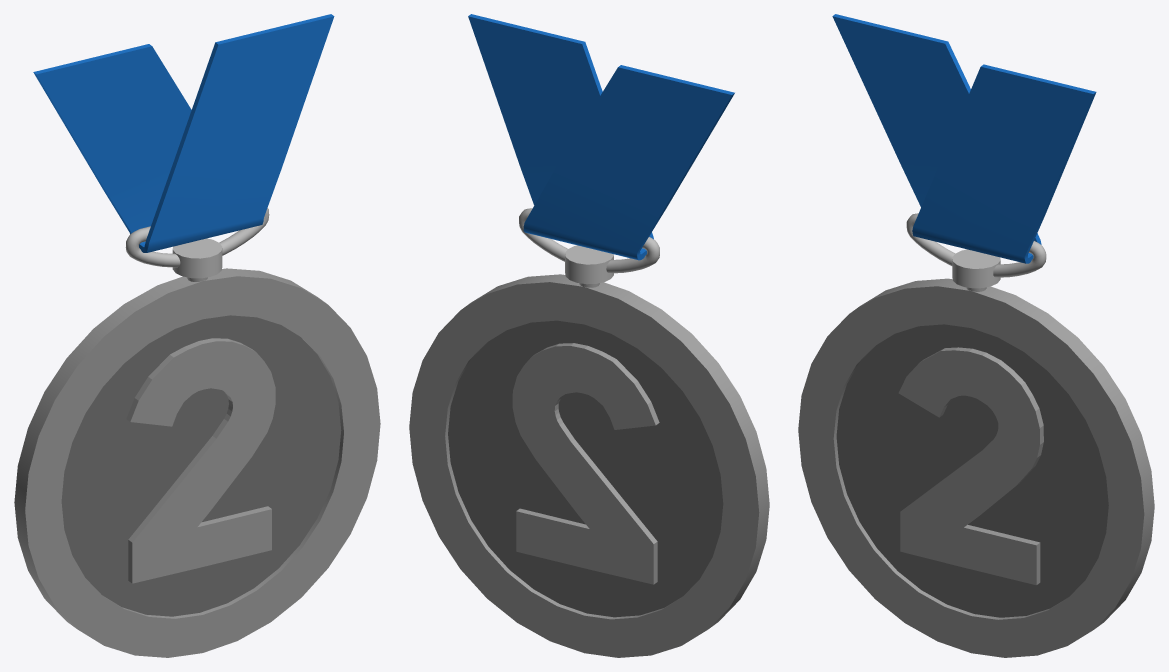
File: 2nd_place_medal.glb
3 renders of one model, left to right at view 1: azimuth 30°, elevation 25°; view 2: azimuth 150°, elevation 25°; view 3: azimuth 330°, elevation 25°, orthographic. The views are drawn at different scales.
Visible parts, largest first — view 1: Circle.2516, Cube.808, Cylinder.473; view 2: Circle.2516, Cube.808, Cylinder.473; view 3: Circle.2516, Cube.808, Cylinder.473.
Part boxes in pixels (x1,y1,x2,y2): Circle.2516: [14, 268, 380, 657]; Cube.808: [33, 14, 334, 252]; Cylinder.473: [125, 208, 269, 281]; Circle.2516: [409, 274, 769, 657]; Cube.808: [468, 14, 734, 260]; Cylinder.473: [519, 208, 659, 287]; Circle.2516: [798, 278, 1154, 657]; Cube.808: [832, 14, 1096, 263]; Cylinder.473: [906, 213, 1046, 291].
Size of the model in its own units: 1.4 by 2.29 by 0.1711.
1 material, 1 textured.
